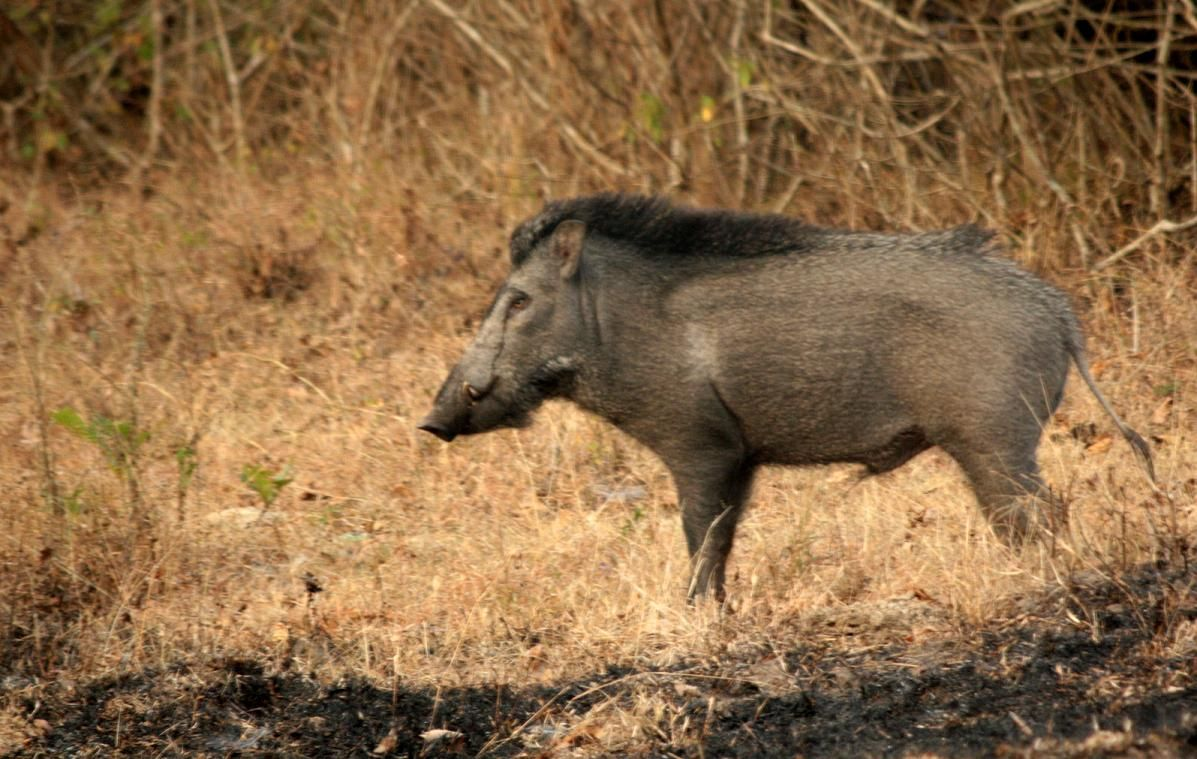wild boar: (411, 185, 1169, 602)
